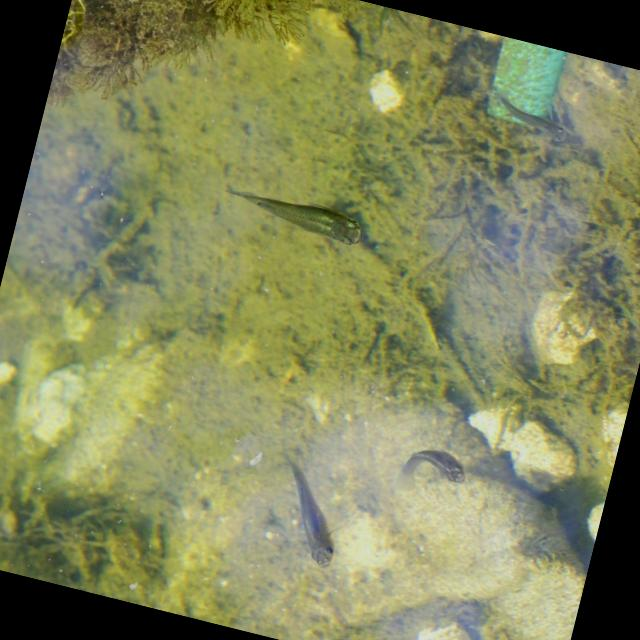Sivrisinek Baligi: (254, 446, 358, 570), (217, 173, 374, 254), (392, 436, 473, 496)
